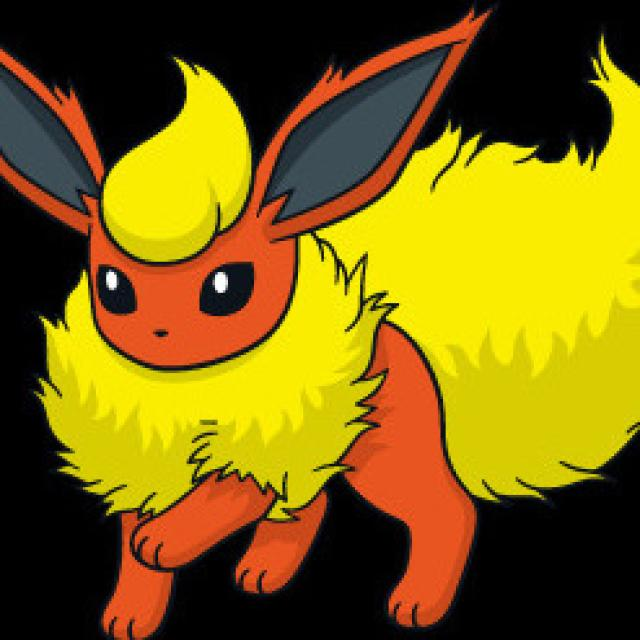Flareon: (3, 22, 530, 599)
